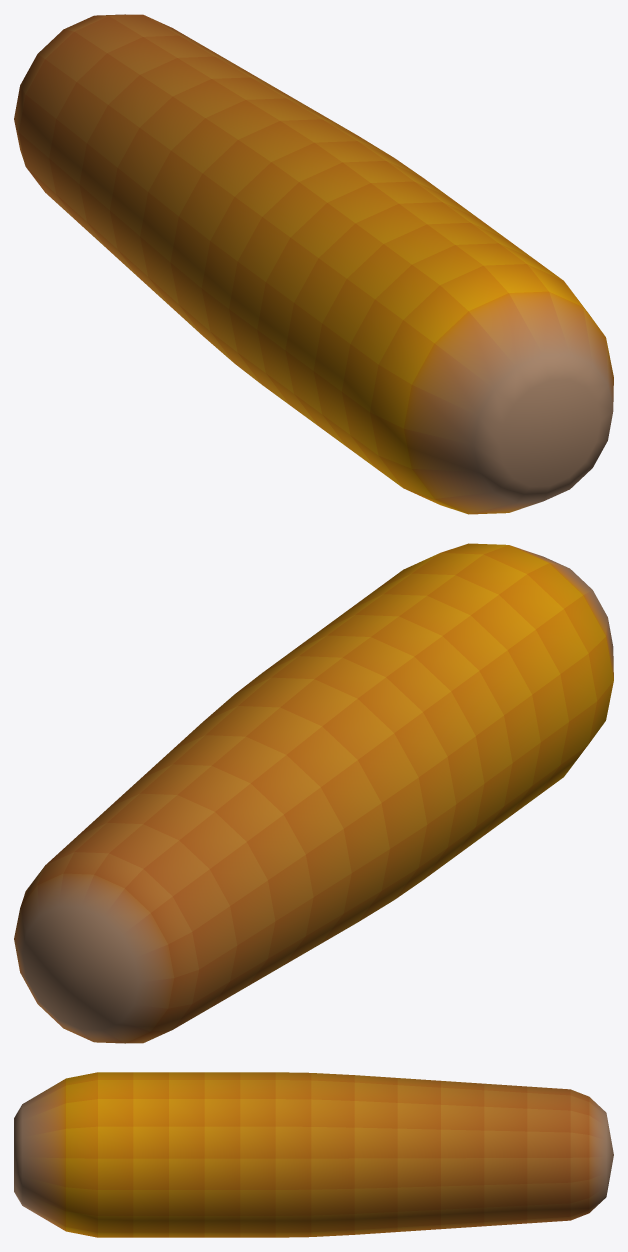
File: consumables-vegetables-cornonthecob_v1.glb
3 views of the same model, one above another, from view 1: azimuth 30°, elevation 25°; view 2: azimuth 150°, elevation 25°; view 3: azimuth 270°, elevation 25° (orthographic). The views are drawn at different scales.
Parts seen in each view (by area): view 1: CornOnTheCob.001; view 2: CornOnTheCob.001; view 3: CornOnTheCob.001.
Part boxes in pixels (x1=…): CornOnTheCob.001: x1=14, y1=14, x2=613, y2=514; CornOnTheCob.001: x1=14, y1=543, x2=613, y2=1043; CornOnTheCob.001: x1=14, y1=1072, x2=613, y2=1237.
Size of the model in its own units: 0.0456 by 0.0456 by 0.1652.
